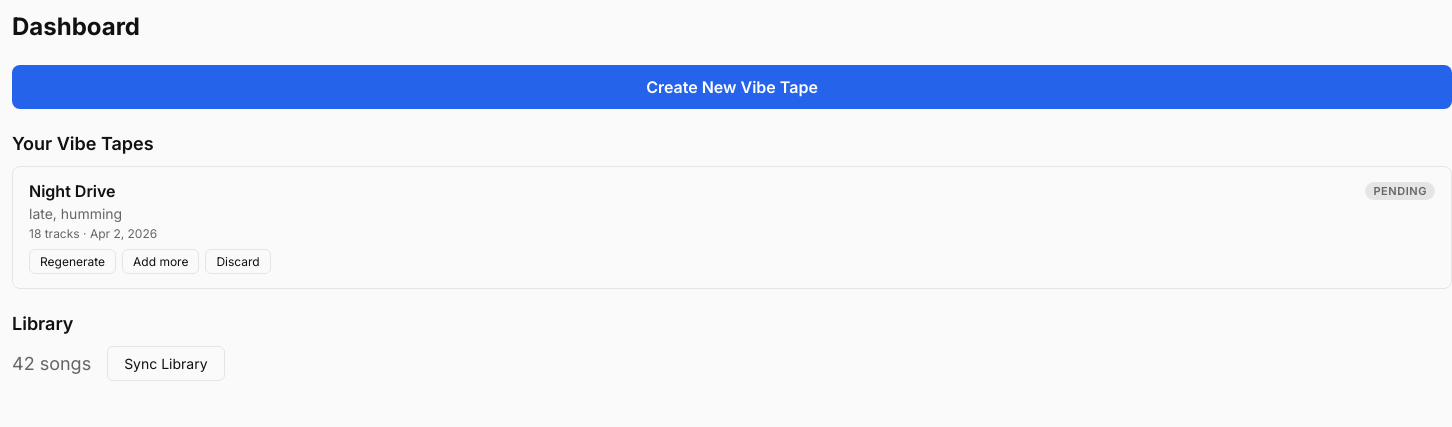
Test case: DashboardPage › Your Vibe Tapes list › surfaces an error when a mutation fails
The image size is (1452, 427).
Expected: the text "Night Drive" is shown, [29, 181, 116, 201]
Click the button "Regenerate" at (72, 262), box [29, 249, 116, 274]
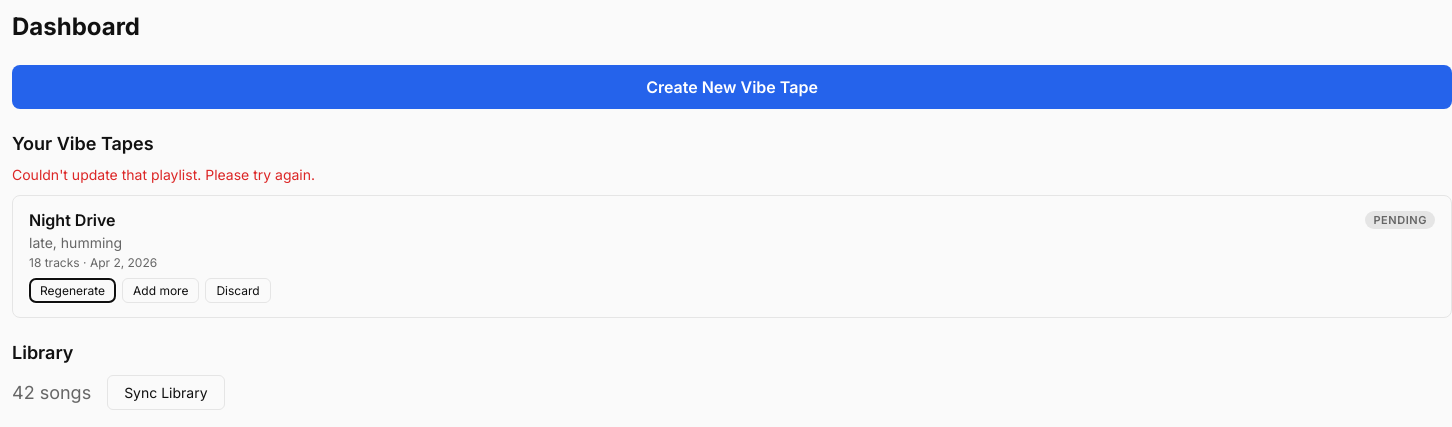
Now the text "Couldn't update that playlist. Please try again." is shown, box [12, 166, 315, 183]
